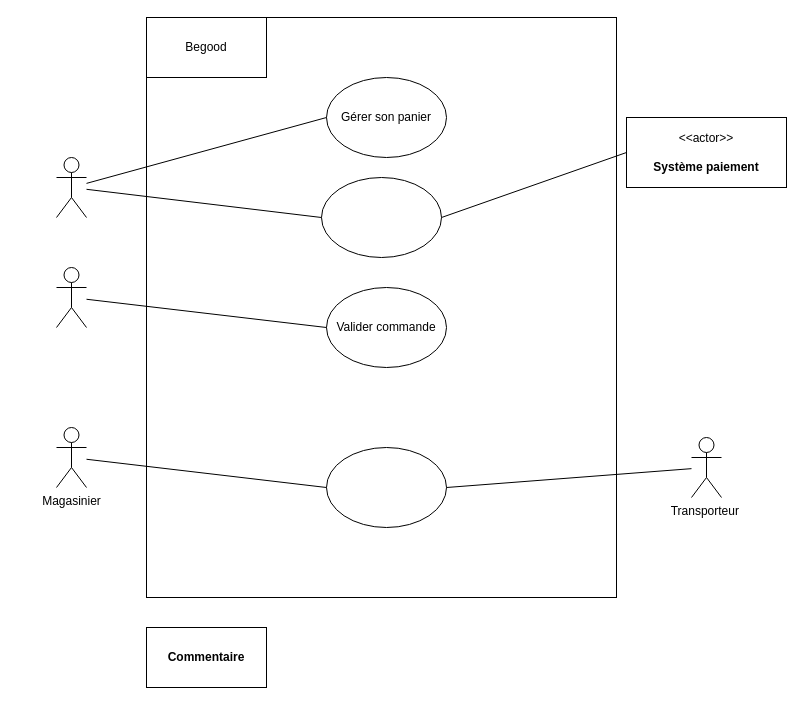
Some shapes in this 804 by 705 pixel diagram are drawn without their labels. The box of each missing label's shape, as (x1, y1, x2, y2) in pixels:
Client: (56, 156, 86, 218)
Employé du service des ventes: (56, 266, 86, 328)
Passer commande: (320, 176, 442, 258)
Préparer et expédier la commande: (326, 446, 446, 528)
